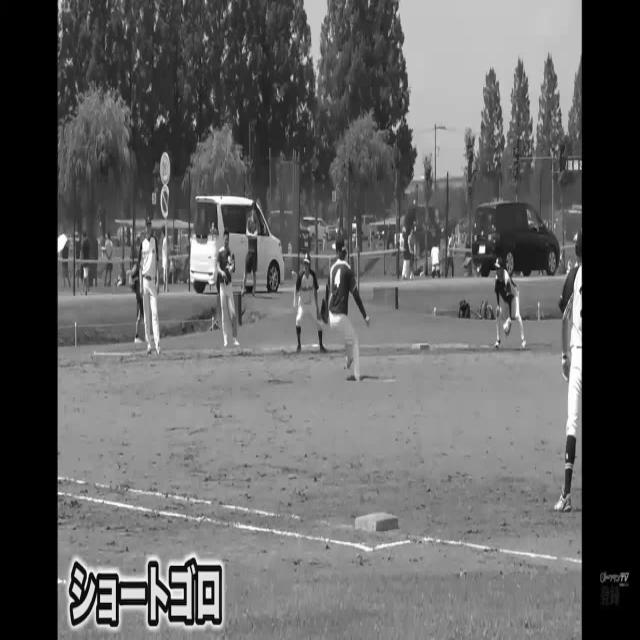base: (352, 510, 400, 536)
baseball_glove: (320, 296, 330, 326)
shoe: (554, 492, 574, 514)
